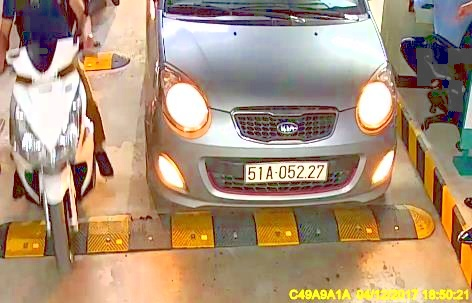plate: (241, 159, 326, 186)
